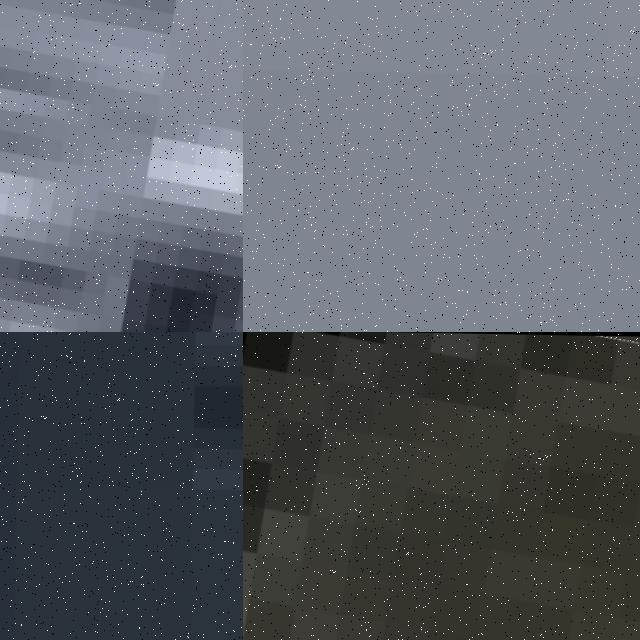0: (0, 0, 243, 332)
drone: (243, 332, 640, 640)
